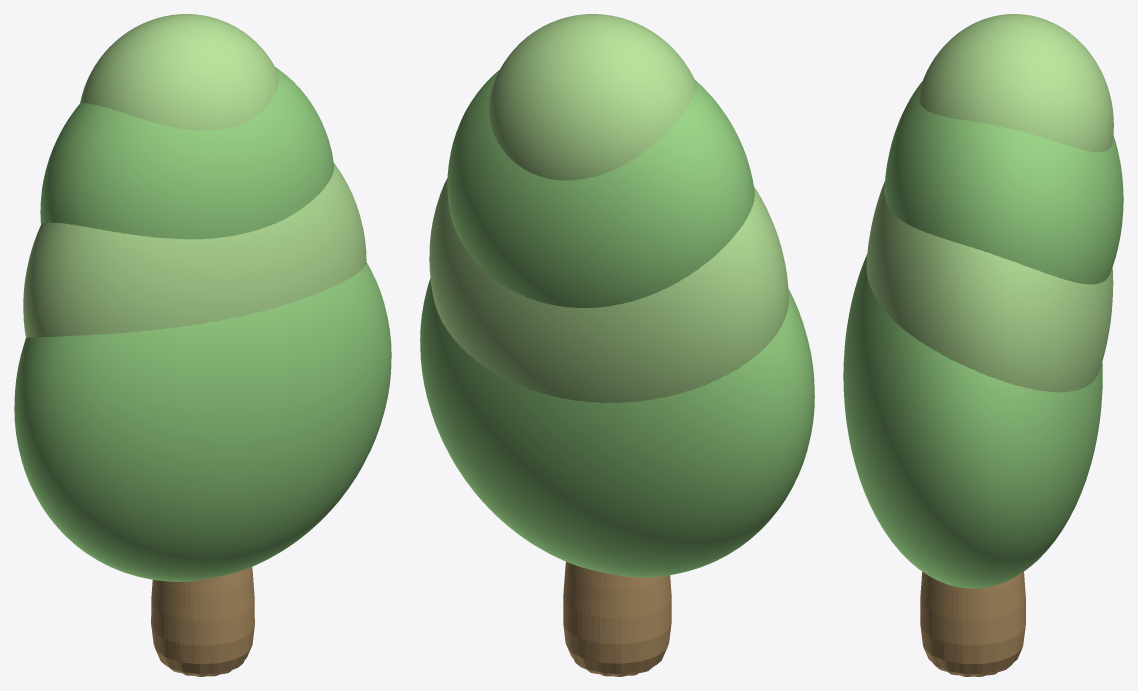
Rendered from tree_ww_fat.glb.
The picture shows the model from 3 angles, left to right: view 1: azimuth 30°, elevation 25°; view 2: azimuth 150°, elevation 25°; view 3: azimuth 270°, elevation 25°; orthographic projection. The views are drawn at different scales.
Visible parts, largest first — view 1: Base, Top, Mid, Cap, Trunk; view 2: Base, Top, Mid, Cap, Trunk; view 3: Base, Top, Mid, Cap, Trunk.
Boxes of the visible parts, x1,y1,x2,y2 form: Base: (14, 263, 391, 581); Top: (40, 67, 334, 239); Mid: (23, 163, 366, 337); Cap: (80, 14, 278, 130); Trunk: (151, 567, 254, 676); Base: (420, 278, 814, 577); Top: (447, 69, 754, 307); Mid: (429, 178, 788, 402); Cap: (488, 14, 696, 180); Trunk: (563, 562, 671, 676); Base: (843, 254, 1102, 588); Top: (884, 81, 1123, 284); Mid: (866, 181, 1113, 392); Cap: (918, 14, 1113, 152); Trunk: (920, 571, 1025, 676).
Bounding box in the file's own units: 2.04 × 3.45 × 1.37.
